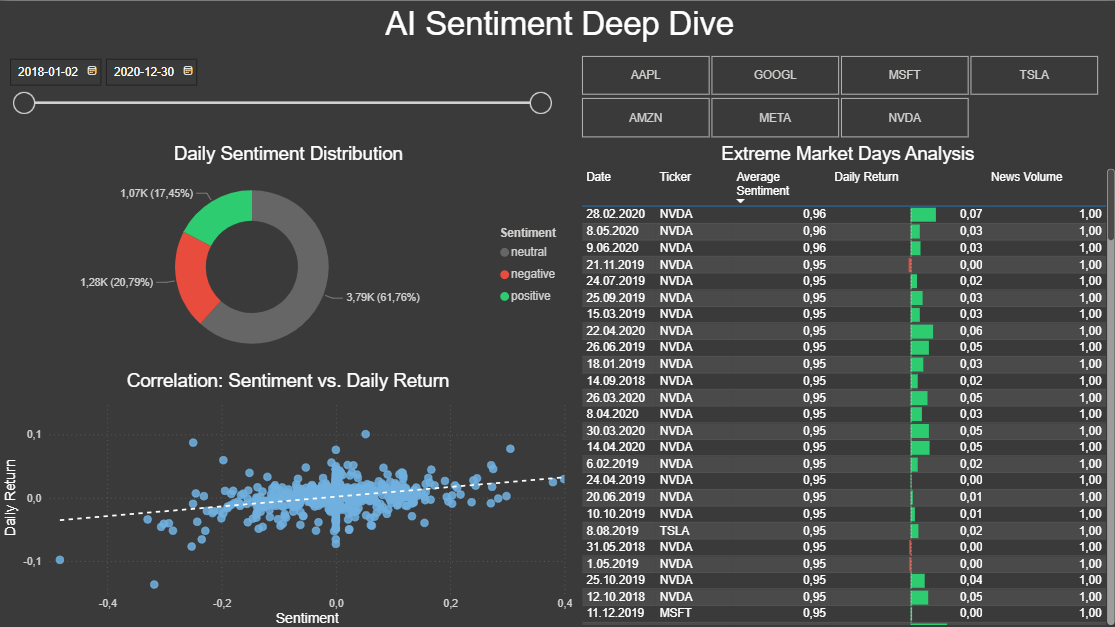

What the dashboard file says about the page in this screenshot:
{"tool":"powerbi","page":{"name":"AI Sentiment Deep Dive","canvas":[1280,720],"ordinal":1},"visuals":[{"type":"slicer","fields":{"Values":["powerbi_dataset.Date"]},"box":[0,55.7,640,107.1],"z":0},{"type":"slicer","fields":{"Values":["powerbi_dataset.Ticker"]},"box":[640,55.7,640,107.1],"z":1000},{"type":"donutChart","title":"Daily Sentiment Distribution","fields":{"Category":["powerbi_dataset.Dominant_Sentiment"],"Y":["Sum(powerbi_dataset.Article_Count)"]},"box":[1.4,162.9,658.6,258.6],"z":2000},{"type":"scatterChart","title":"Correlation: Sentiment vs. Daily Return","fields":{"Category":["powerbi_dataset.Date.Odmiana.Hierarchia dat.Rok","powerbi_dataset.Date.Odmiana.Hierarchia dat.Kwartał","powerbi_dataset.Date.Odmiana.Hierarchia dat.Miesiąc","powerbi_dataset.Date.Odmiana.Hierarchia dat.Dzień"],"X":["powerbi_dataset.Avg Sentiment"],"Y":["Avg(powerbi_dataset.Daily_Return)"]},"box":[0,422.1,660.5,297.7],"z":3000},{"type":"tableEx","title":"Extreme Market Days Analysis","fields":{"Values":["powerbi_dataset.Date","powerbi_dataset.Ticker","powerbi_dataset.Avg Sentiment","Avg(powerbi_dataset.Daily_Return)","Sum(powerbi_dataset.Article_Count)"]},"box":[660,162.9,620,555.7],"z":4000},{"type":"textbox","box":[1.4,0,1278.6,55.7],"z":5000}]}

Visuals, with their boxes in screenshot pixels (x1, y1, x2, y2), scaled from the page's 1280x720 canvas onto the 1115x627 screenshot:
slicer - powerbi_dataset.Date: bbox=[0, 49, 558, 142]
slicer - powerbi_dataset.Ticker: bbox=[558, 49, 1114, 142]
"Daily Sentiment Distribution" donutChart: bbox=[1, 142, 575, 367]
"Correlation: Sentiment vs. Daily Return" scatterChart: bbox=[0, 368, 575, 626]
"Extreme Market Days Analysis" tableEx: bbox=[575, 142, 1114, 626]
textbox: bbox=[1, 0, 1114, 49]
